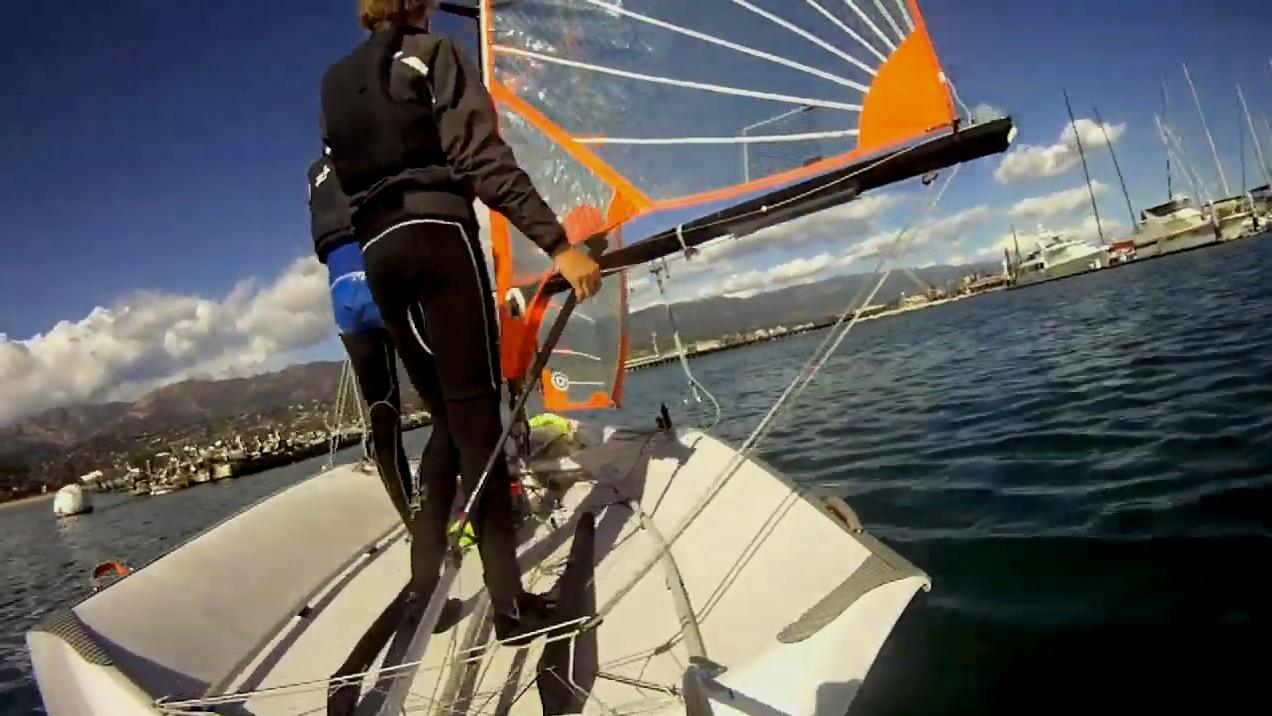boat: (24, 1, 1014, 716)
land: (628, 186, 1272, 366), (0, 362, 368, 501)
person: (322, 0, 566, 624), (308, 160, 412, 532)
sea: (623, 231, 1272, 716), (0, 446, 365, 716)
sky: (632, 0, 1272, 307), (0, 0, 364, 427)
